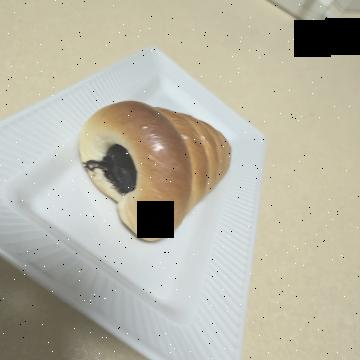cream horn: (88, 118, 258, 286)
